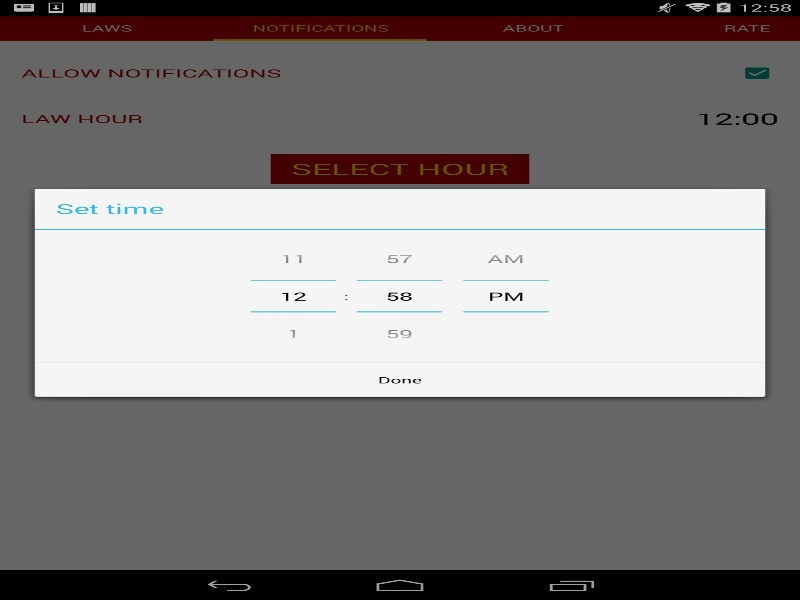Button: (34, 363, 765, 396), (250, 240, 336, 281), (250, 311, 336, 352), (356, 240, 442, 281), (356, 311, 442, 352), (463, 240, 548, 281)
Input: (250, 281, 336, 311), (356, 281, 442, 311), (463, 281, 548, 311)
